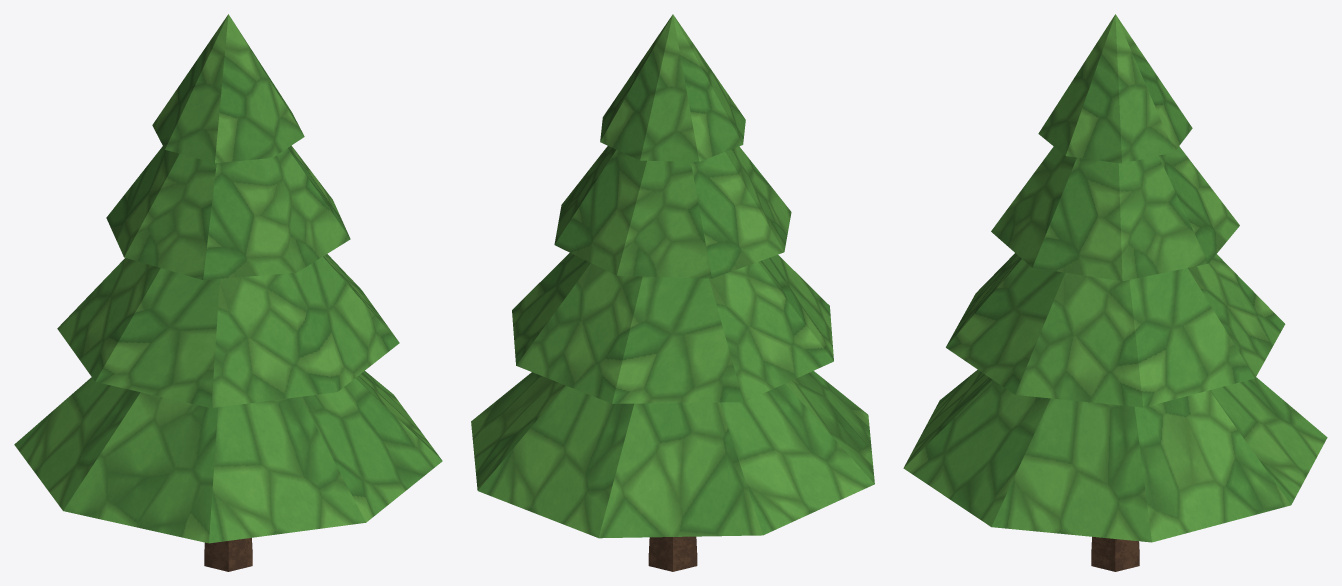
The model's file is Tree_PineSmall.fbx.
The picture shows the model from 3 angles, left to right: view 1: azimuth 30°, elevation 25°; view 2: azimuth 150°, elevation 25°; view 3: azimuth 270°, elevation 25°; orthographic projection.
Visible parts, largest first — view 1: Tree_PineSmall; view 2: Tree_PineSmall; view 3: Tree_PineSmall.
Part boxes in pixels (x1,y1,x2,y2): Tree_PineSmall: (14, 14, 442, 571); Tree_PineSmall: (471, 14, 874, 571); Tree_PineSmall: (903, 14, 1327, 571).
Size of the model in its own units: 1.34 by 1.9 by 1.34.
Materials: 2 (2 with a texture image).
